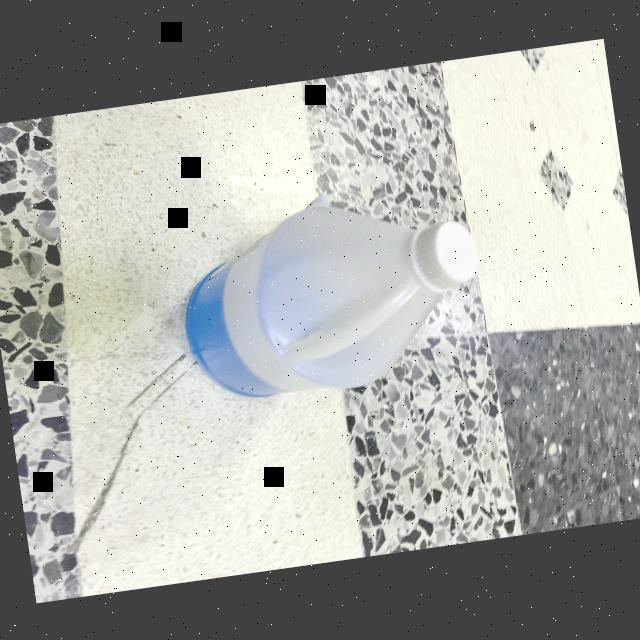chemical_plastic_gallon: (148, 173, 511, 418)
